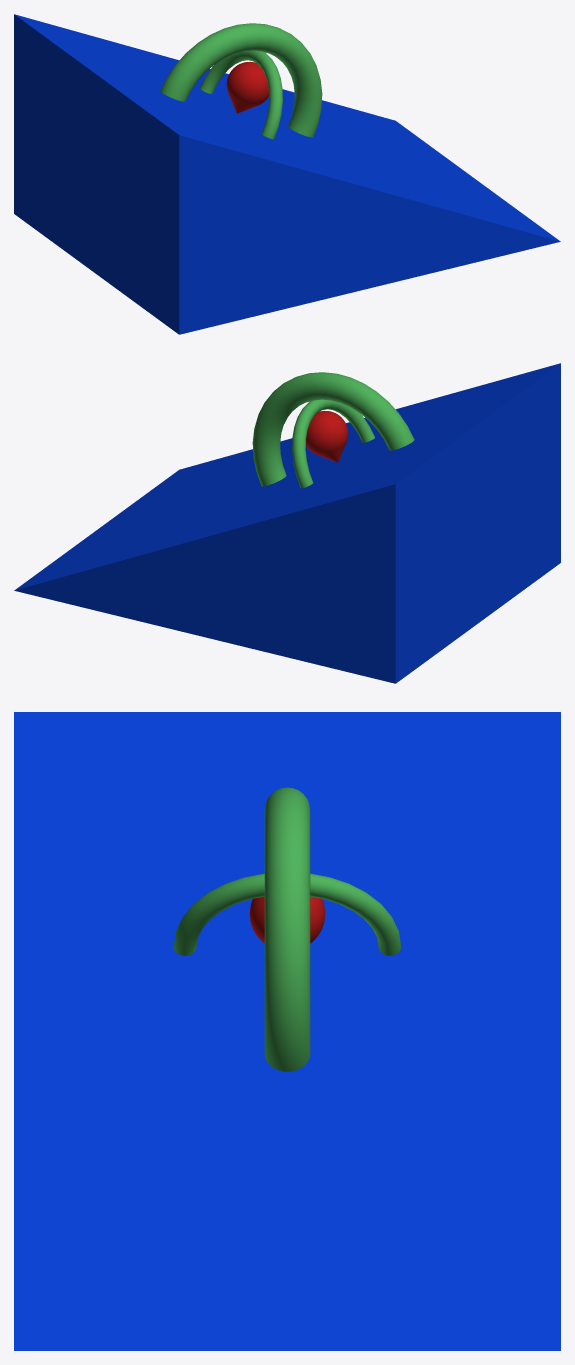
The model's file is Wedge Torus Cone Sphere.glb.
The picture shows the model from 3 angles, top to bottom: view 1: azimuth 30°, elevation 25°; view 2: azimuth 150°, elevation 25°; view 3: azimuth 270°, elevation 25°; orthographic projection. The views are drawn at different scales.
Parts seen in each view (by area): view 1: Part, Part 2, Part 3; view 2: Part, Part 2, Part 3; view 3: Part, Part 2, Part 3.
Boxes of the visible parts, x1,y1,x2,y2 form: Part: (14, 14, 560, 334); Part 2: (160, 23, 322, 139); Part 3: (226, 61, 268, 113); Part: (14, 363, 560, 683); Part 2: (252, 372, 414, 488); Part 3: (306, 410, 348, 462); Part: (14, 712, 560, 1350); Part 2: (173, 787, 401, 1071); Part 3: (249, 896, 325, 943).
Size of the model in its own units: 0.1016 by 0.0543 by 0.0762.
